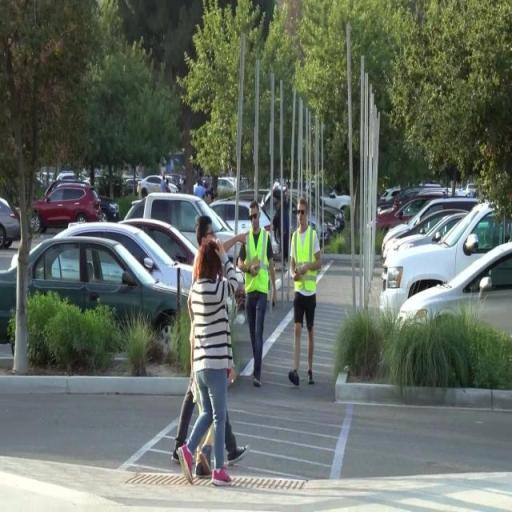vest: (290, 224, 322, 297), (242, 226, 272, 296)
